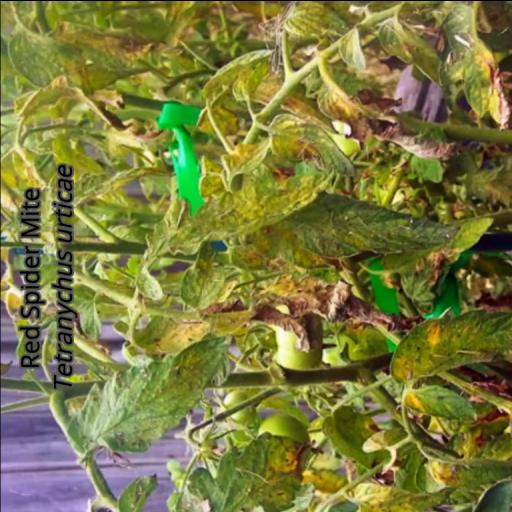disease_tomato: (66, 333, 230, 453), (164, 167, 338, 254), (386, 307, 512, 381), (268, 113, 356, 175), (403, 381, 477, 421)
